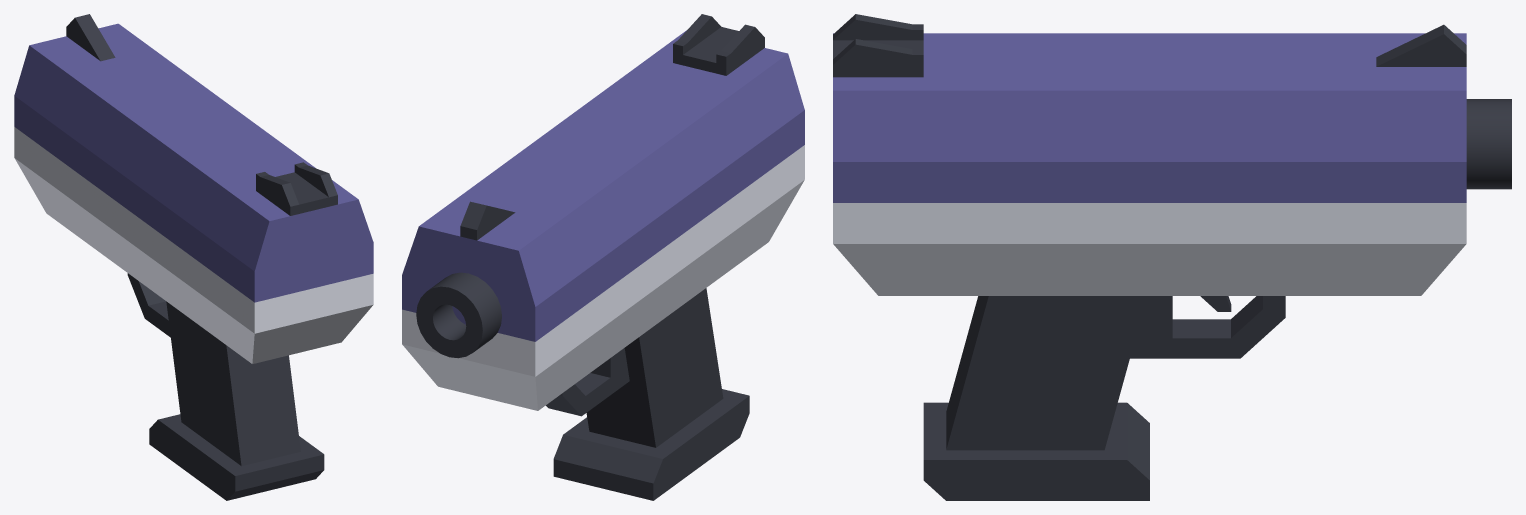
Rendered from pistol_1.glb.
The picture shows the model from 3 angles, left to right: view 1: azimuth 30°, elevation 25°; view 2: azimuth 150°, elevation 25°; view 3: azimuth 270°, elevation 25°; orthographic projection. The views are drawn at different scales.
Parts seen in each view (by area): view 1: mediumBlaster_handle, mediumBlaster_back (×2), detailTargetSight, detailTargetSightFront; view 2: mediumBlaster_handle, mediumBlaster_back (×2), attachment_barrelThin, detailTargetSight, detailTargetSightFront; view 3: mediumBlaster_handle, mediumBlaster_back (×2), detailTargetSight, attachment_barrelThin, detailTargetSightFront.
Part boxes in pixels (box(x1,y1,x2,y2)): mediumBlaster_handle: box(48, 48, 324, 500); mediumBlaster_back (×2): box(14, 23, 373, 363); detailTargetSight: box(256, 162, 337, 215); detailTargetSightFront: box(66, 14, 115, 61); mediumBlaster_handle: box(457, 57, 766, 500); mediumBlaster_back (×2): box(402, 30, 804, 410); attachment_barrelThin: box(416, 272, 501, 358); detailTargetSight: box(673, 14, 764, 75); detailTargetSightFront: box(460, 201, 515, 240); mediumBlaster_handle: box(923, 33, 1376, 500); mediumBlaster_back (×2): box(833, 33, 1466, 295); detailTargetSight: box(833, 14, 923, 77); attachment_barrelThin: box(1466, 99, 1511, 189); detailTargetSightFront: box(1376, 24, 1466, 66).
Size of the model in its own units: 0.4 by 1.08 by 1.5.
